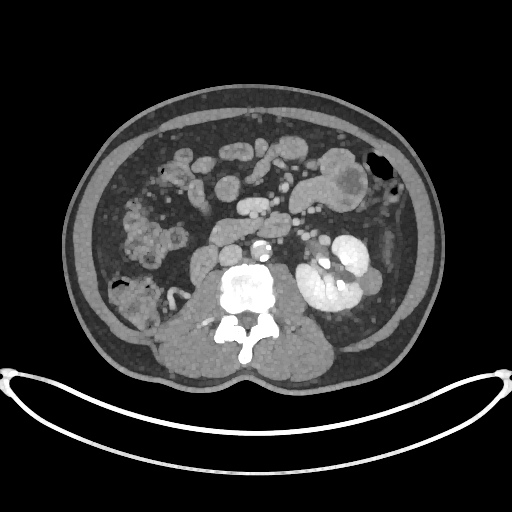Lesion: (358, 269, 385, 298)
